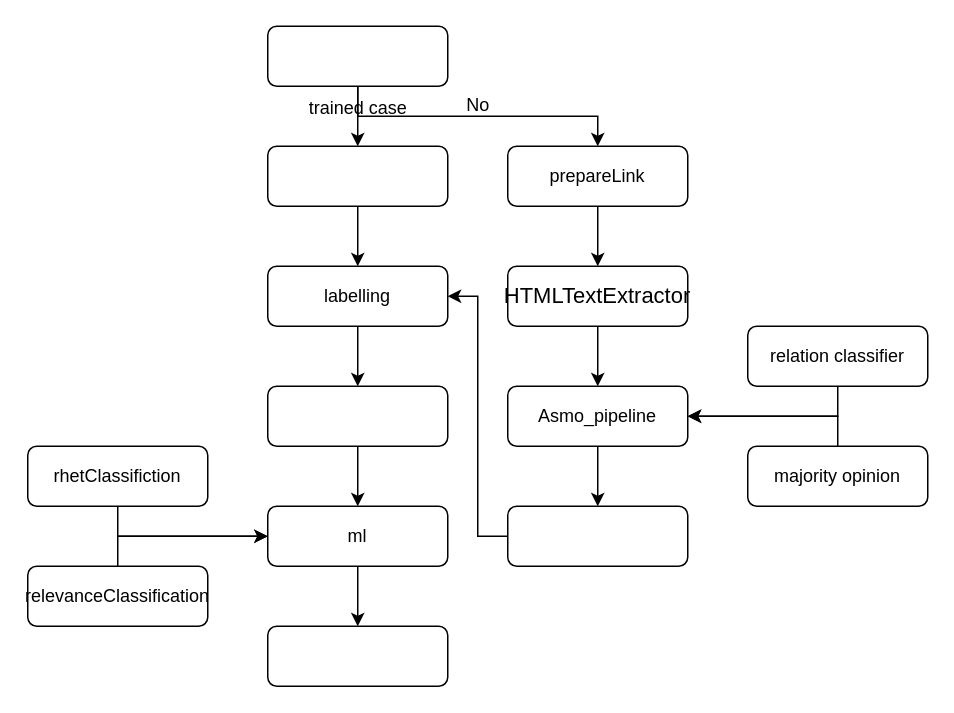
Image size: 954x713. Some labels were removed from this diagram. Each missing label, with the box of its shape:
featureExtractor: (266, 385, 448, 446)
prepare_labelling: (506, 505, 688, 566)
prepareCase: (266, 145, 448, 206)
summary: (266, 625, 448, 686)
SUMO pipeline: (266, 25, 448, 86)
